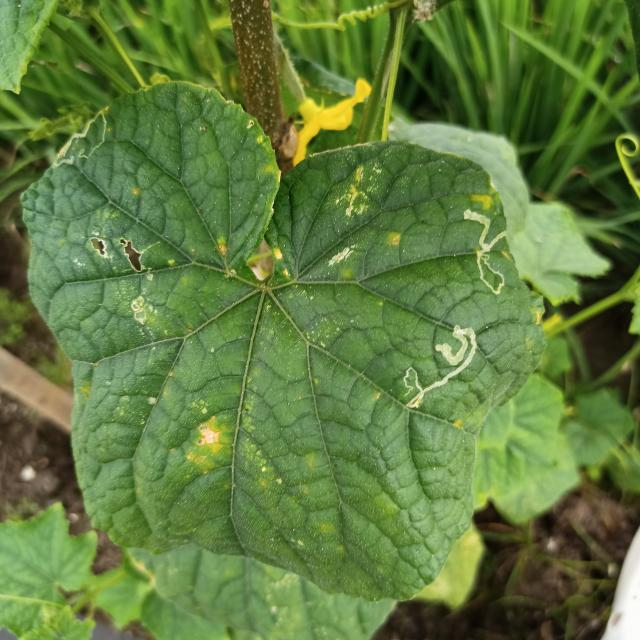disease_cucumber: (91, 231, 157, 333), (185, 406, 231, 469), (332, 164, 381, 219), (323, 242, 361, 270), (469, 189, 497, 214), (273, 247, 293, 280), (528, 304, 546, 327), (215, 239, 230, 261), (387, 231, 404, 250)
